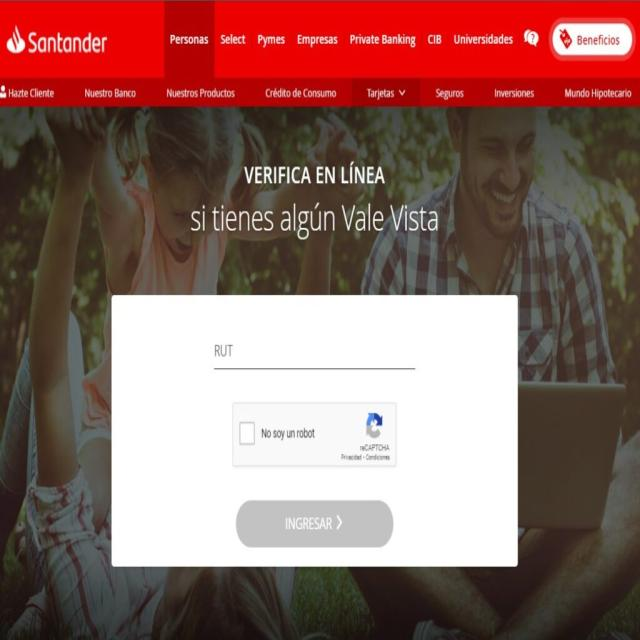santander: (7, 27, 26, 53)
